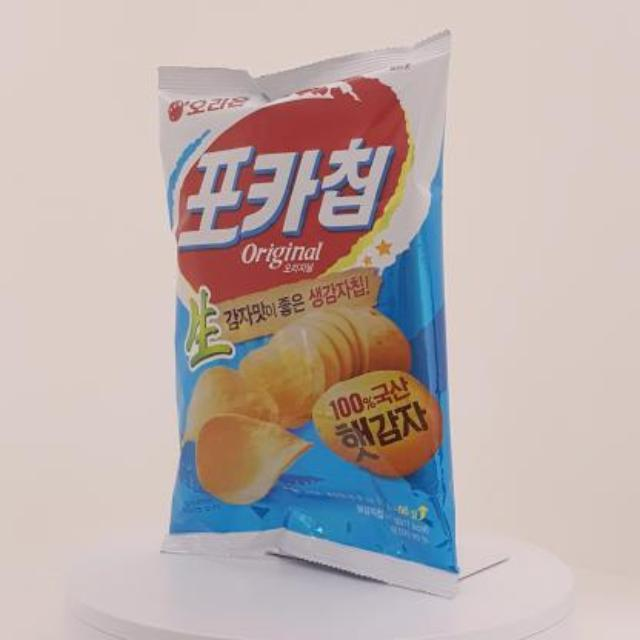snack_bag: (136, 15, 494, 605)
